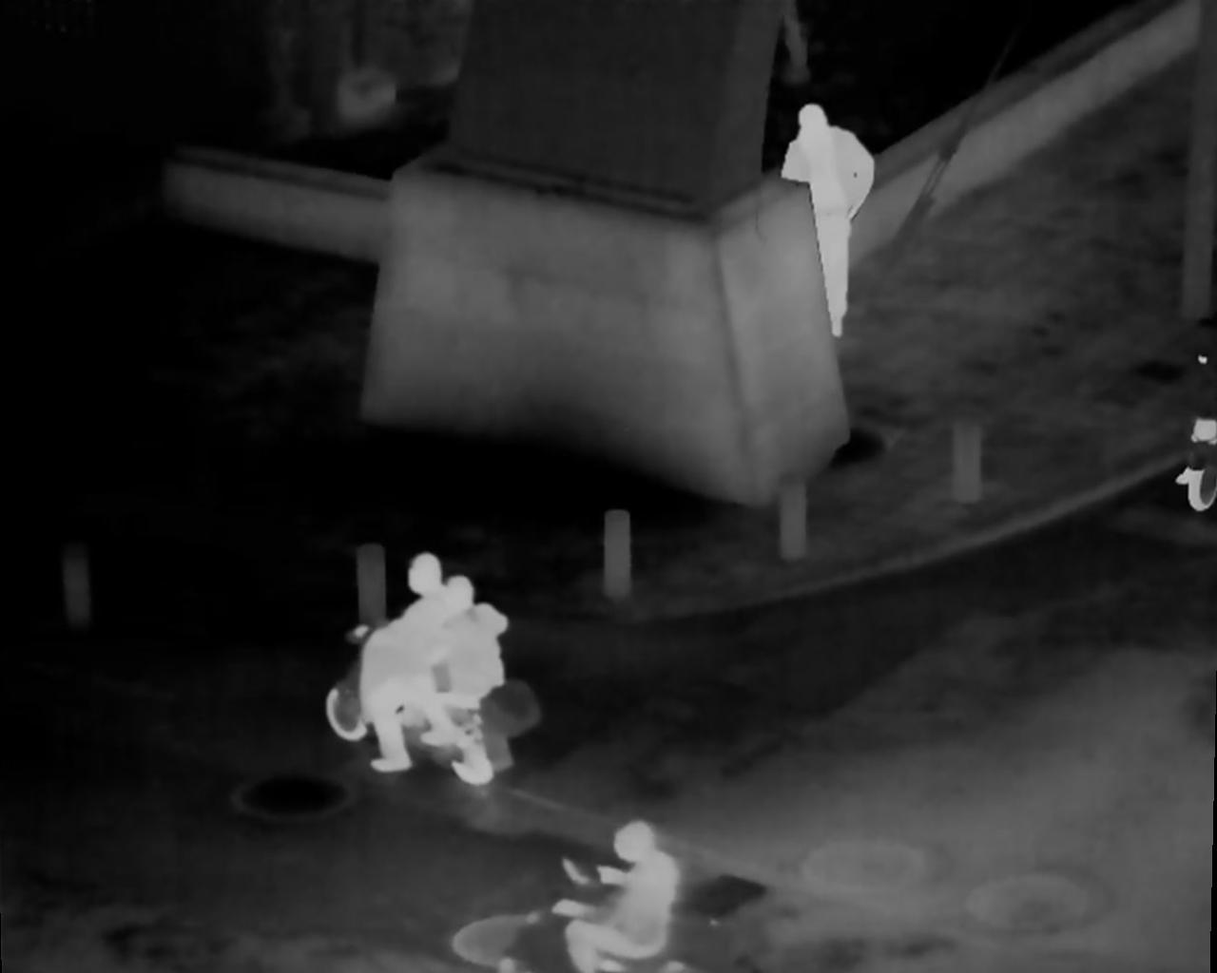person: (349, 550, 470, 777), (776, 104, 872, 347), (435, 582, 508, 790), (581, 820, 674, 969)
